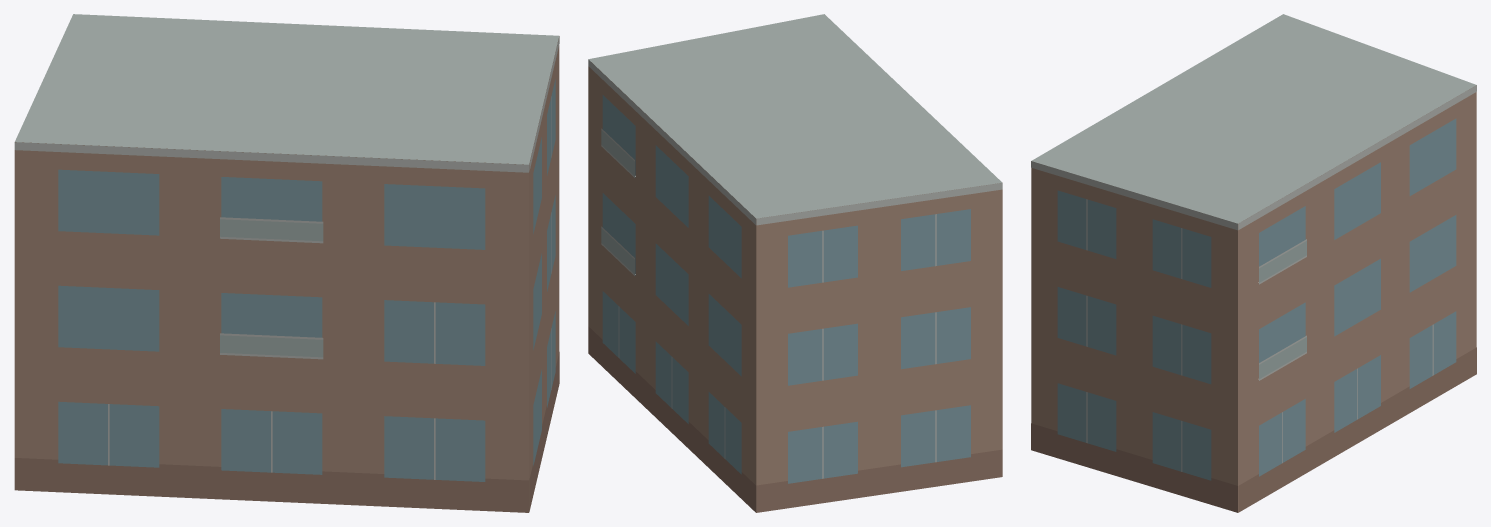
The model's file is survey-upis-33045931.glb.
The picture shows the model from 3 angles, left to right: view 1: azimuth 30°, elevation 25°; view 2: azimuth 150°, elevation 25°; view 3: azimuth 270°, elevation 25°; orthographic projection. The views are drawn at different scales.
Parts seen in each view (by area): view 1: survey-upis-33045931.tmp; view 2: survey-upis-33045931.tmp; view 3: survey-upis-33045931.tmp.
Boxes of the visible parts, bbox=[...] form: survey-upis-33045931.tmp: bbox=[14, 14, 559, 512]; survey-upis-33045931.tmp: bbox=[588, 14, 1002, 512]; survey-upis-33045931.tmp: bbox=[1031, 14, 1476, 512].
Size of the model in its own units: 16.34 by 10.5 by 14.68.
